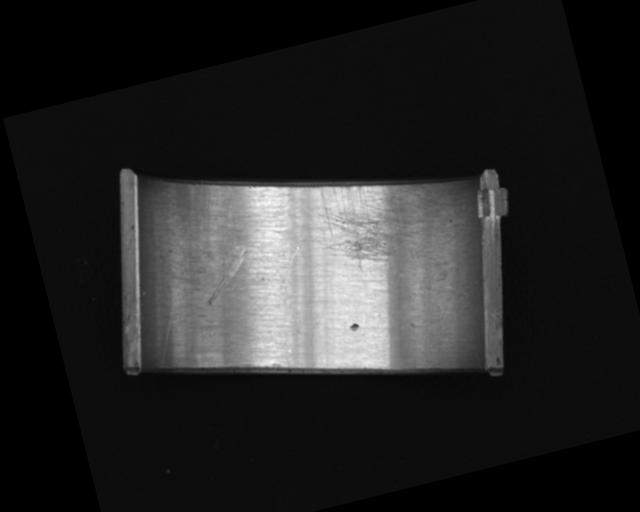bruise: (347, 321, 360, 332)
nick: (259, 243, 330, 370), (140, 273, 203, 370), (197, 251, 255, 306), (222, 196, 248, 255)
scratch: (307, 162, 446, 278)
